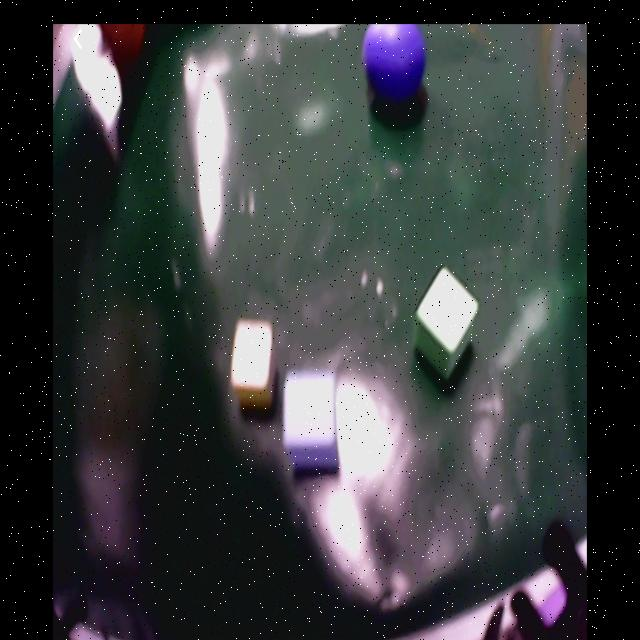ball: (363, 23, 427, 107)
